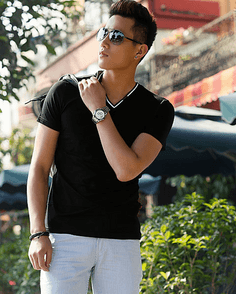person: (53, 2, 173, 226)
